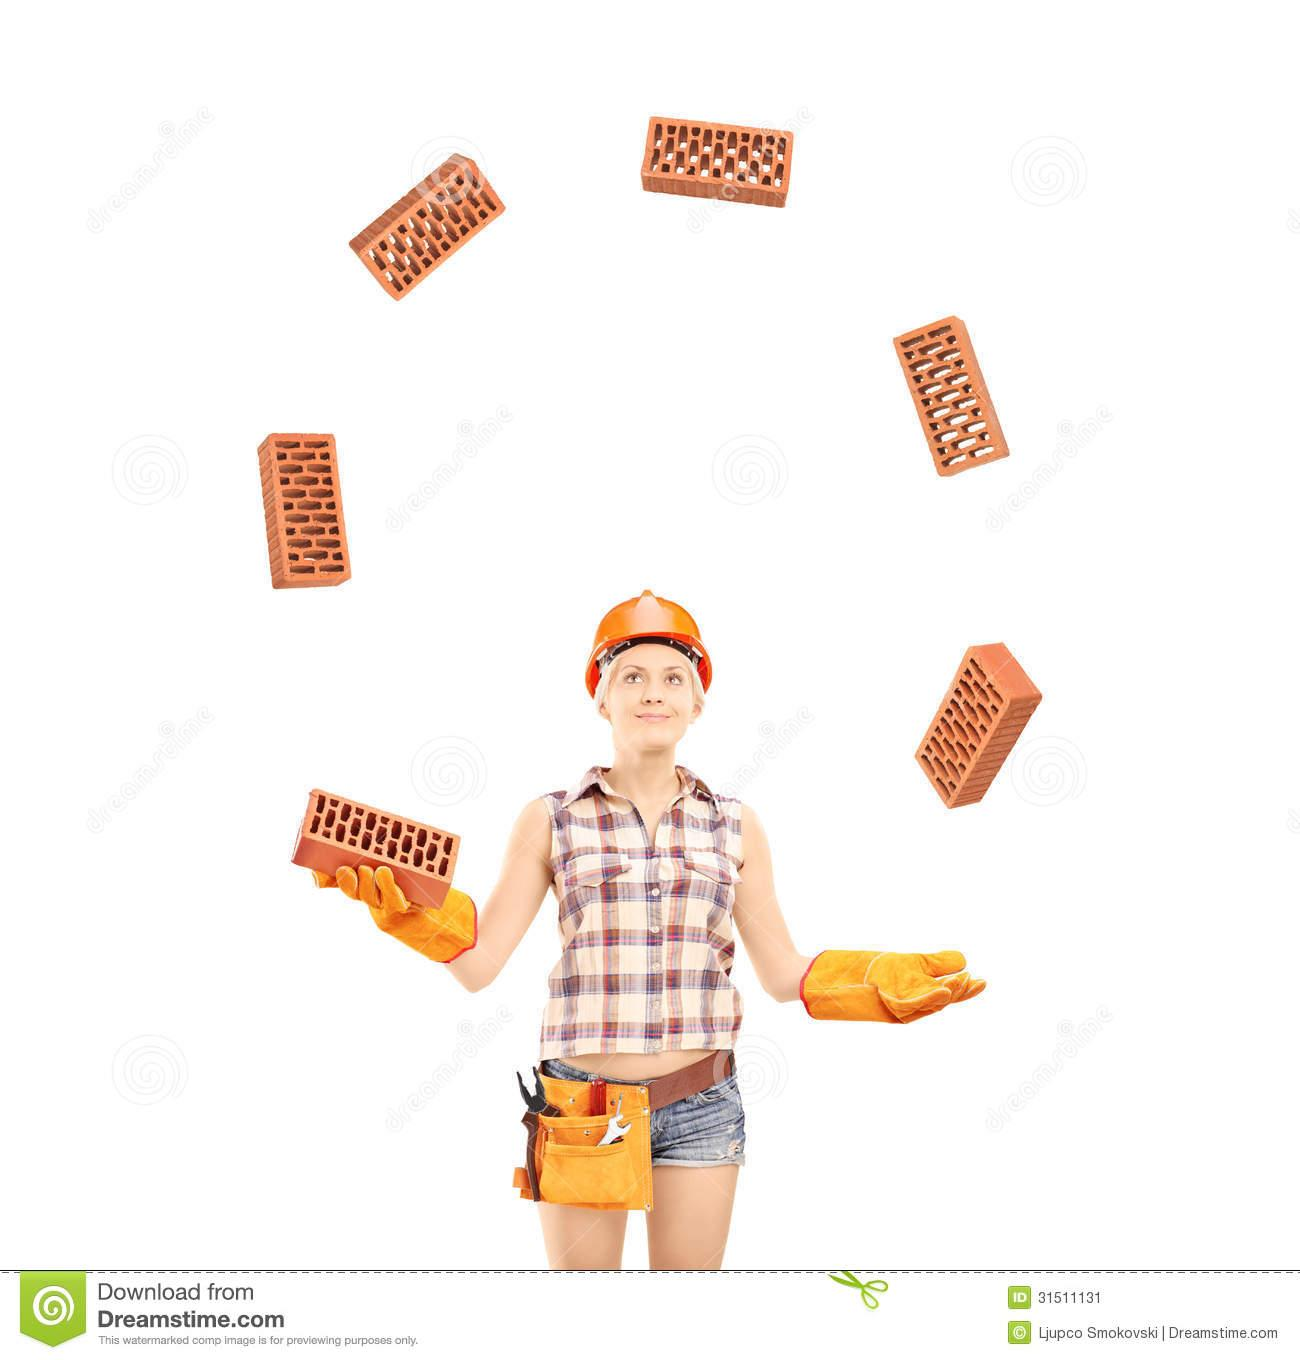helmet: (583, 595, 720, 691)
